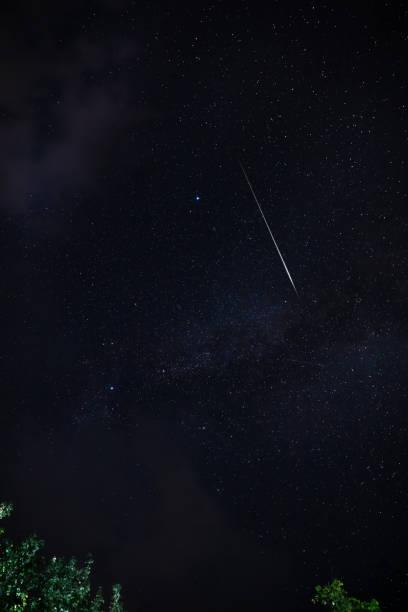meteor: (281, 266, 314, 301)
